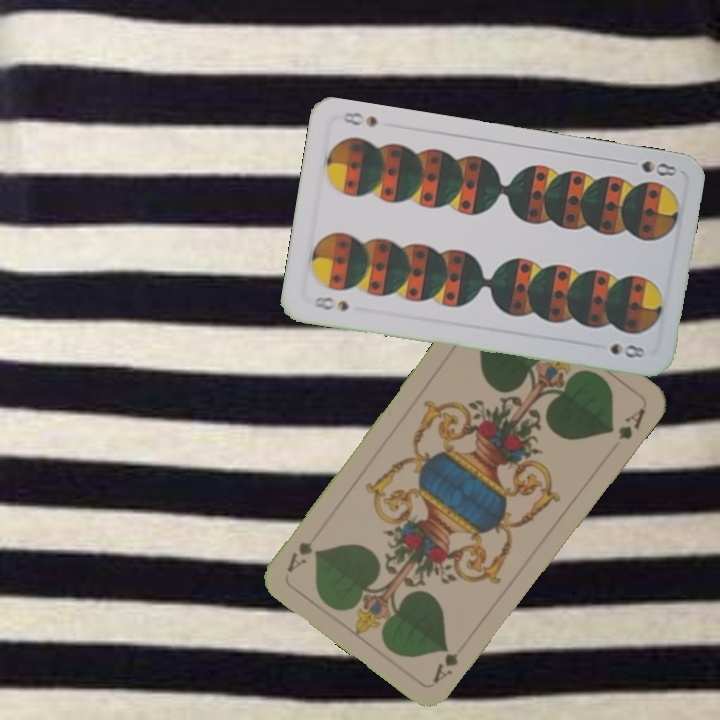GA: (429, 646, 461, 686)
S8: (621, 156, 680, 179), (310, 292, 352, 314)
